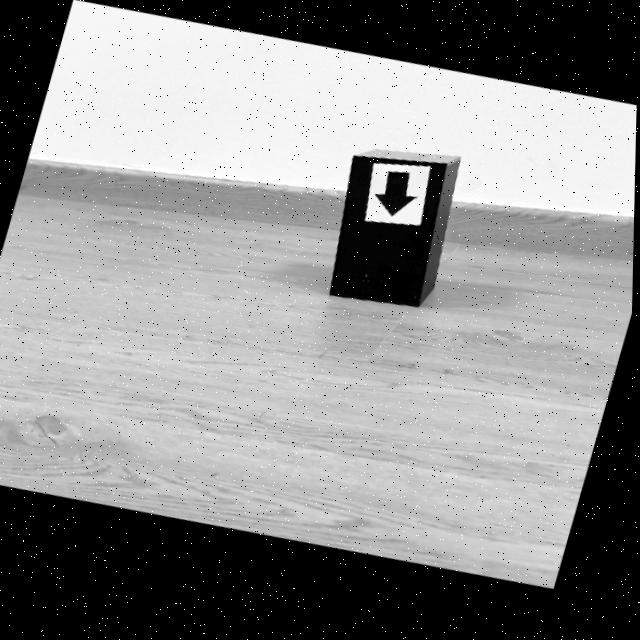DOWN: (376, 178, 417, 223)
